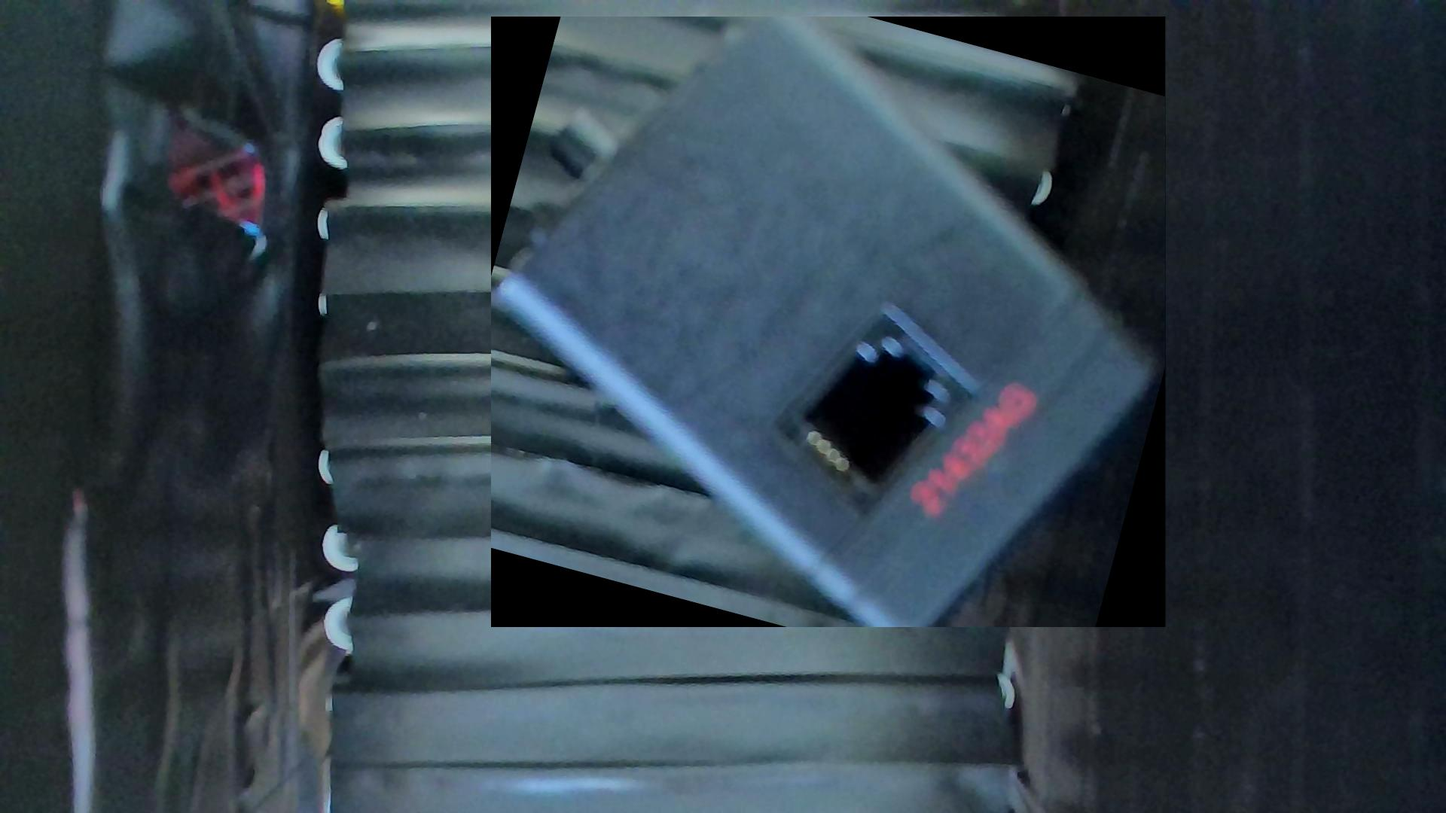motor: (491, 17, 1166, 627)
